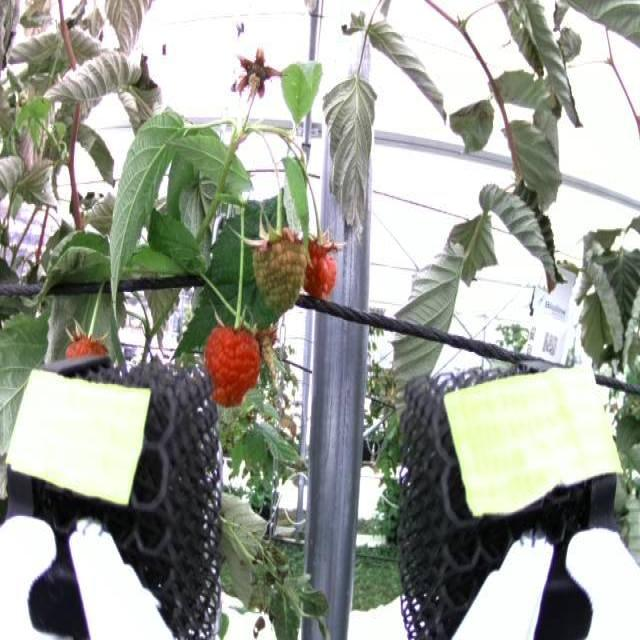Riped berries: (206, 324, 266, 406), (300, 230, 348, 298), (66, 328, 113, 361)
